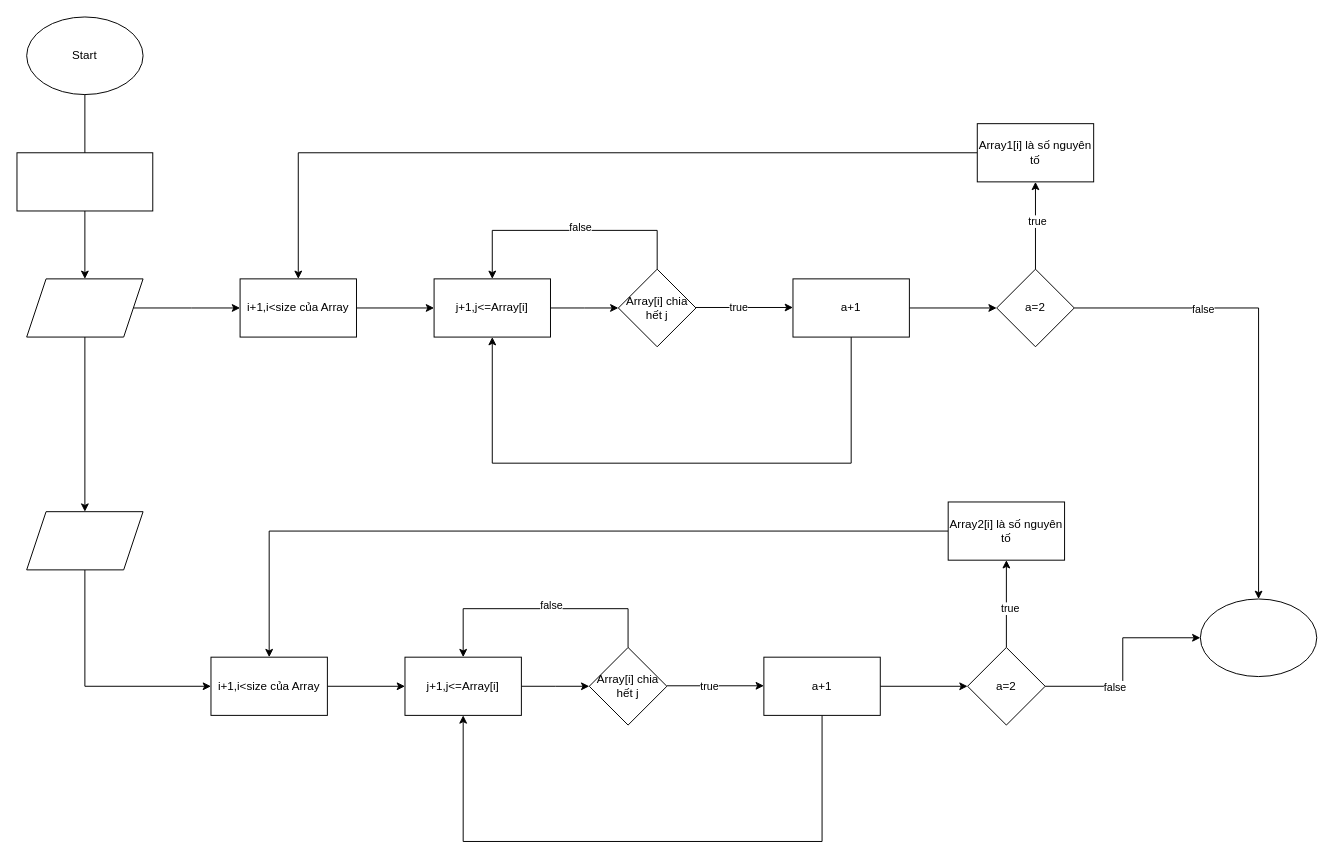
This 1334x866 diagram has some shape labels left out. Here are the shapes that lost their labels. From the top down, the centre of each, then its label:
point 84,181: Array1,Array2,i=0,j=0,a
point 84,307: Array1
point 84,540: Array2
point 1258,637: End
